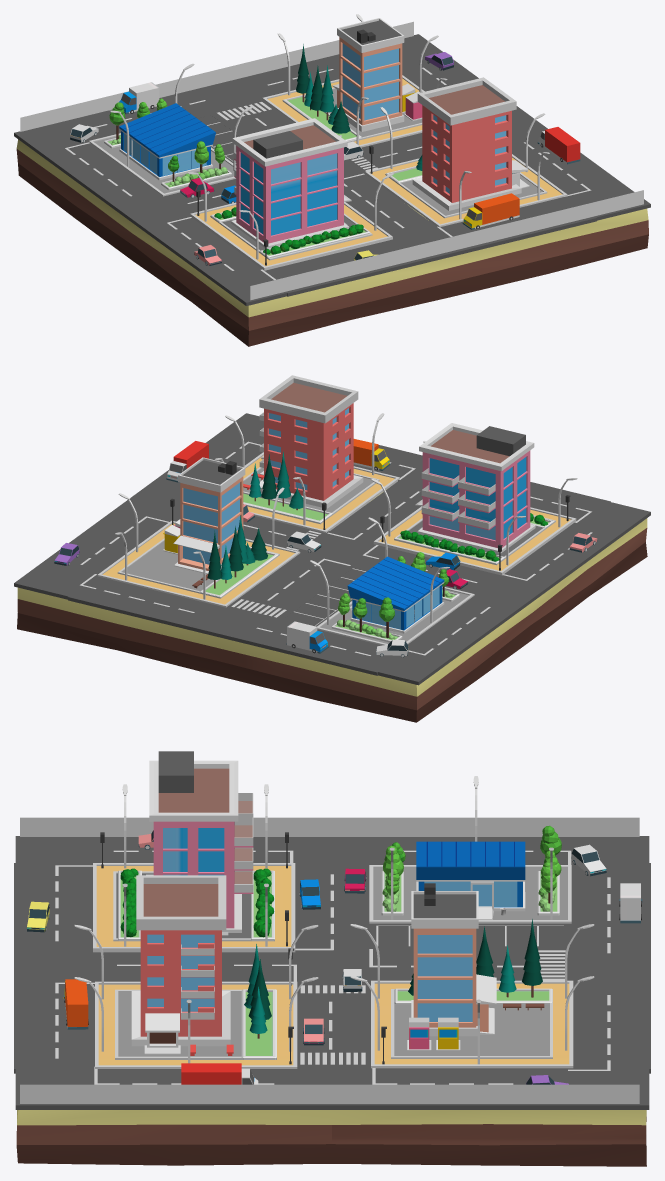
Rendered from citywall.glb.
The picture shows the model from 3 angles, top to bottom: view 1: azimuth 30°, elevation 25°; view 2: azimuth 150°, elevation 25°; view 3: azimuth 270°, elevation 25°; orthographic projection. The views are drawn at different scales.
Parts seen in each view (by area): view 1: ROAD_TRANSFORM, Floor_6, House, House_2, House_3, Plane3, Shop, Plane4, Floor, Floor_2, Floor_4_4, ROAD_Lines_12 (+10 smaller); view 2: ROAD_TRANSFORM, Floor_6, House, House_2, House_3, Shop, Floor_3, Floor, Floor_4_3, Floor_2, ROAD_Lines_12, Floor_4_4 (+10 smaller); view 3: ROAD_TRANSFORM, Floor_6, House_2, House, Plane2, Plane1, House_3, Shop, Floor_4_3, Floor_3, Floor, Floor_2 (+19 smaller).
Part boxes in pixels (left/top/right/bottom): ROAD_TRANSFORM: left=14, top=34, right=650, bottom=305; Floor_6: left=16, top=139, right=648, bottom=346; House: left=231, top=118, right=351, bottom=248; House_2: left=412, top=77, right=529, bottom=210; House_3: left=332, top=18, right=404, bottom=131; Plane3: left=250, top=190, right=643, bottom=300; Shop: left=119, top=103, right=215, bottom=180; Plane4: left=20, top=21, right=413, bottom=131; Floor: left=190, top=202, right=392, bottom=270; Floor_2: left=365, top=154, right=567, bottom=227; Floor_4_4: left=89, top=133, right=236, bottom=196; ROAD_Lines_12: left=65, top=67, right=591, bottom=279; ROAD_TRANSFORM: left=14, top=413, right=650, bottom=685; Floor_6: left=17, top=489, right=647, bottom=722; House: left=415, top=423, right=535, bottom=553; House_2: left=259, top=375, right=363, bottom=508; House_3: left=173, top=457, right=245, bottom=573; Shop: left=347, top=556, right=444, bottom=633; Floor_3: left=97, top=520, right=300, bottom=607; Floor: left=373, top=506, right=576, bottom=575; Floor_4_3: left=117, top=538, right=279, bottom=598; Floor_2: left=243, top=452, right=399, bottom=533; ROAD_Lines_12: left=80, top=441, right=592, bottom=655; Floor_4_4: left=317, top=586, right=474, bottom=645; ROAD_TRANSFORM: left=14, top=836, right=650, bottom=1109; Floor_6: left=16, top=1110, right=646, bottom=1166; House_2: left=131, top=875, right=230, bottom=1054; House: left=146, top=751, right=253, bottom=935; Plane2: left=20, top=1084, right=639, bottom=1103; Plane1: left=20, top=817, right=639, bottom=836; House_3: left=411, top=883, right=496, bottom=1036; Shop: left=416, top=841, right=525, bottom=919; Floor_4_3: left=391, top=989, right=552, bottom=1058; Floor_3: left=371, top=980, right=573, bottom=1068; Floor: left=93, top=863, right=295, bottom=952; Floor_2: left=95, top=981, right=297, bottom=1068.
Bounding box in the file's own units: 51.81 × 17.59 × 51.81.
4 materials, 4 textured.
